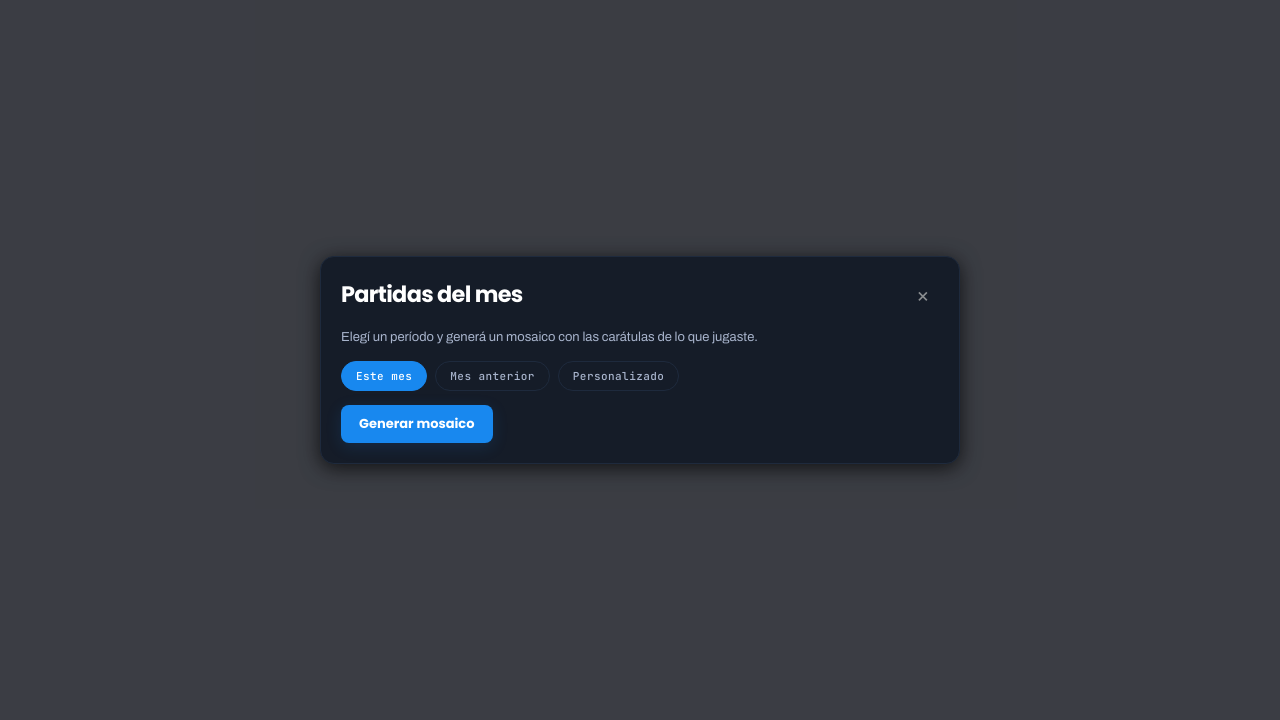
Test case: <MonthlyRecapModal> › shows an empty state (no canvas/download) when the period has no plays
Click the button "Generar mosaico" at (417, 424), box [341,405,492,443]
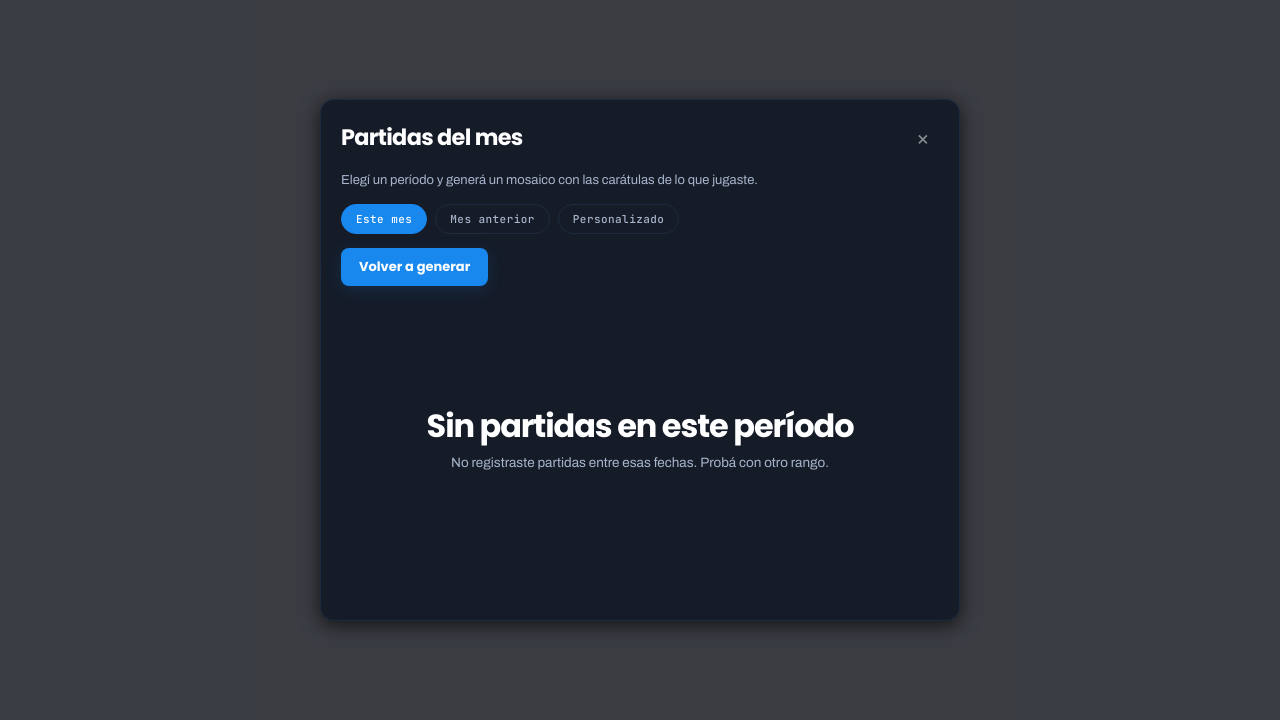
Check: the heading "Sin partidas en este período" is shown, box [427,409,853,442]
